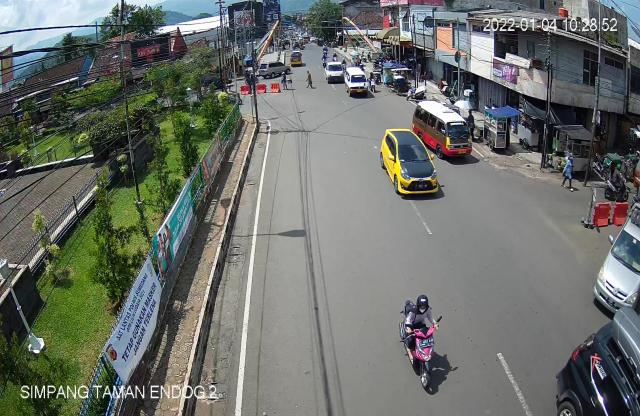Mobil: (557, 308, 640, 416), (373, 121, 446, 202), (593, 201, 640, 311), (413, 99, 480, 167)
Motor: (401, 296, 442, 390)
